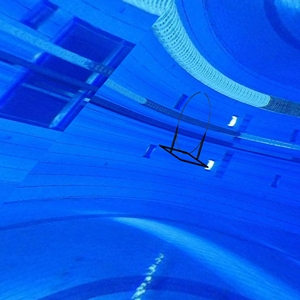circle: (158, 91, 212, 171)
